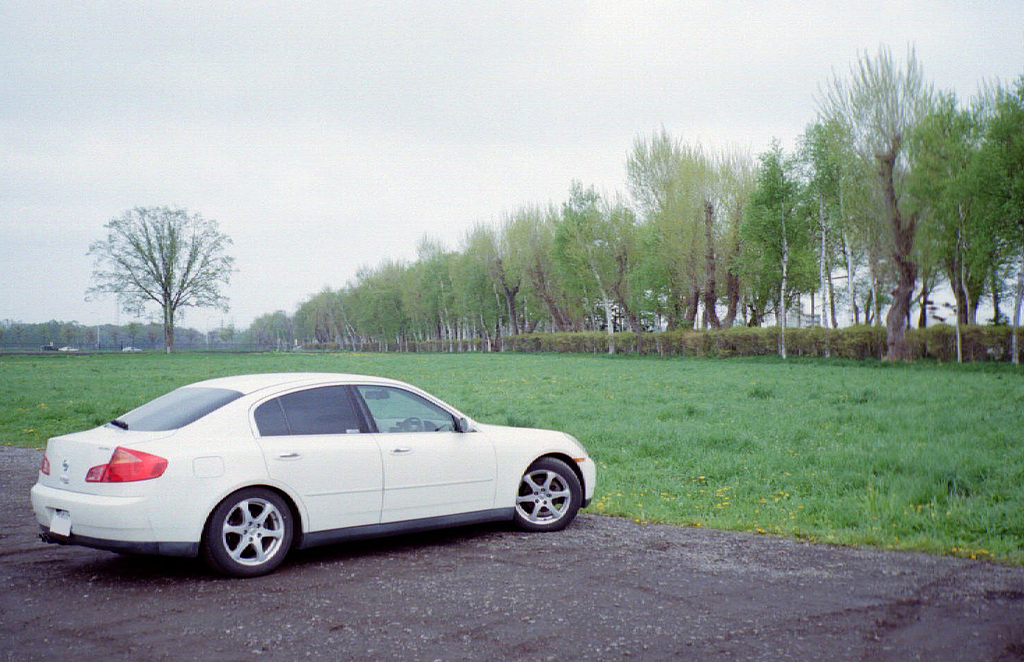Car: (10, 373, 609, 585), (59, 347, 76, 354), (122, 347, 141, 351)
